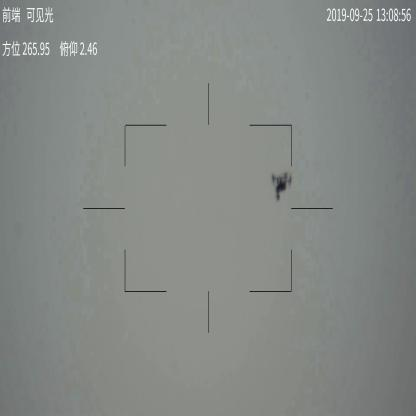uav: (268, 172, 294, 200)
